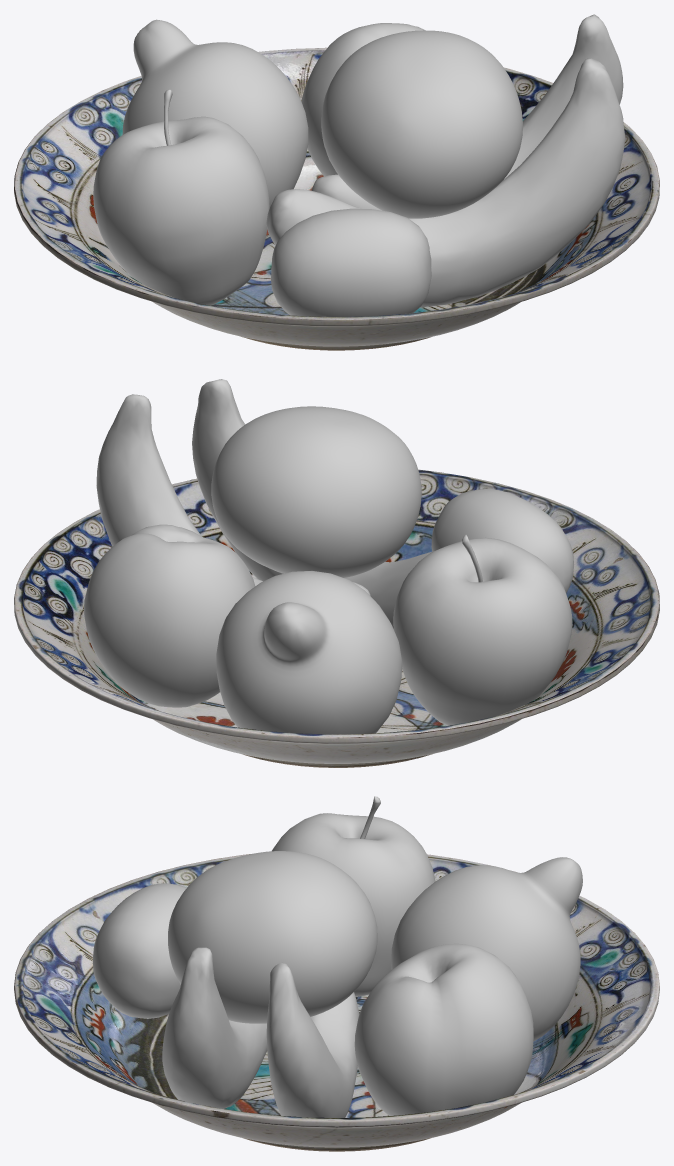
Rendered from Fruit Bowl.fbx.
3 renders of one model, top to bottom at view 1: azimuth 30°, elevation 25°; view 2: azimuth 150°, elevation 25°; view 3: azimuth 270°, elevation 25°, orthographic.
Parts seen in each view (by area): view 1: Circle, Mandarin Orange, Apple, Banana, Pomegranate, Kiwi, Banana.001, Peach; view 2: Circle, Mandarin Orange, Apple, Pomegranate, Peach, Banana.001, Kiwi, Banana; view 3: Circle, Mandarin Orange, Peach, Pomegranate, Apple, Banana.001, Banana, Kiwi.
Boxes of the visible parts, box(x1,y1,x2,y2) form: Circle: box(14, 47, 659, 350); Mandarin Orange: box(321, 30, 522, 218); Apple: box(93, 89, 269, 305); Banana: box(266, 58, 625, 307); Pomegranate: box(122, 19, 308, 207); Kiwi: box(271, 208, 431, 316); Banana.001: box(311, 14, 623, 210); Peach: box(301, 23, 425, 176); Circle: box(14, 469, 659, 767); Mandarin Orange: box(211, 406, 421, 577); Apple: box(393, 534, 572, 725); Pomegranate: box(216, 571, 402, 734); Peach: box(84, 524, 255, 707); Banana.001: box(96, 394, 370, 595); Kiwi: box(431, 488, 573, 593); Banana: box(192, 379, 433, 628); Circle: box(14, 854, 659, 1151); Mandarin Orange: box(168, 851, 377, 1023); Peach: box(354, 943, 533, 1115); Pomegranate: box(391, 857, 582, 1041); Apple: box(272, 796, 435, 996); Banana.001: box(266, 962, 359, 1117); Banana: box(162, 947, 267, 1108); Kiwi: box(93, 883, 186, 1018).
Size of the model in its own units: 25.22 by 10.79 by 25.22.
